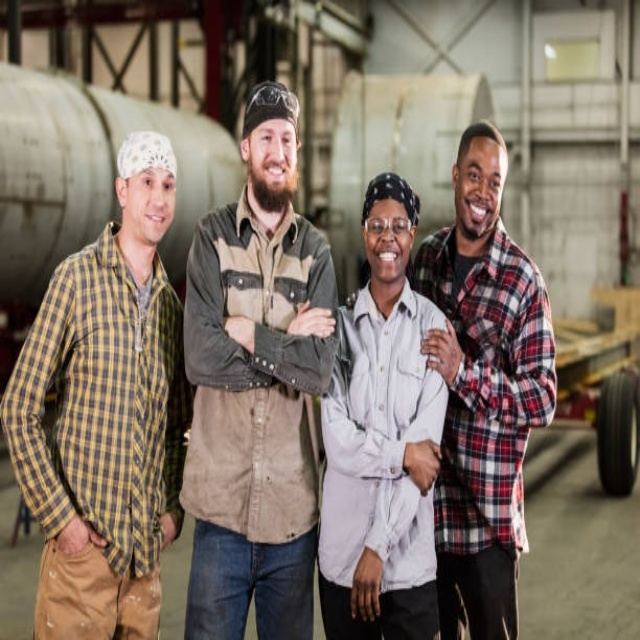Gafas: (366, 213, 414, 238)
Sin_gafas: (465, 155, 508, 190), (251, 125, 294, 149), (137, 176, 174, 196)
Sin_guantes: (420, 311, 461, 378), (350, 548, 385, 619), (405, 433, 441, 494), (285, 304, 335, 339)
Sin_mascara: (261, 157, 289, 191), (372, 246, 403, 276), (465, 199, 492, 229), (143, 207, 167, 240)
